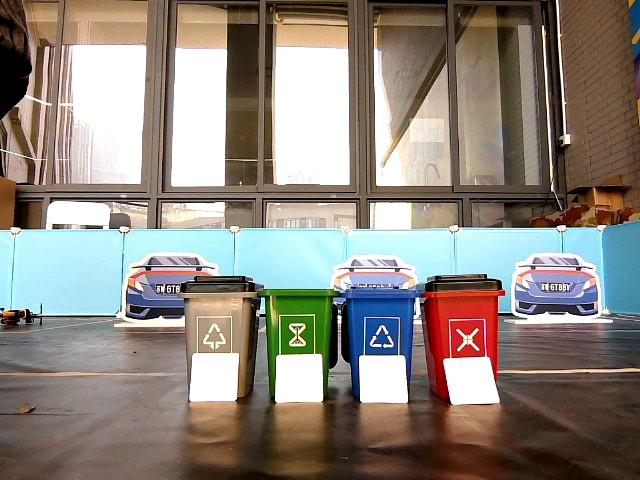blue_open: (347, 291, 410, 352)
green_open: (268, 288, 329, 352)
grey_close: (186, 275, 253, 351)
red_close: (425, 274, 496, 356)
